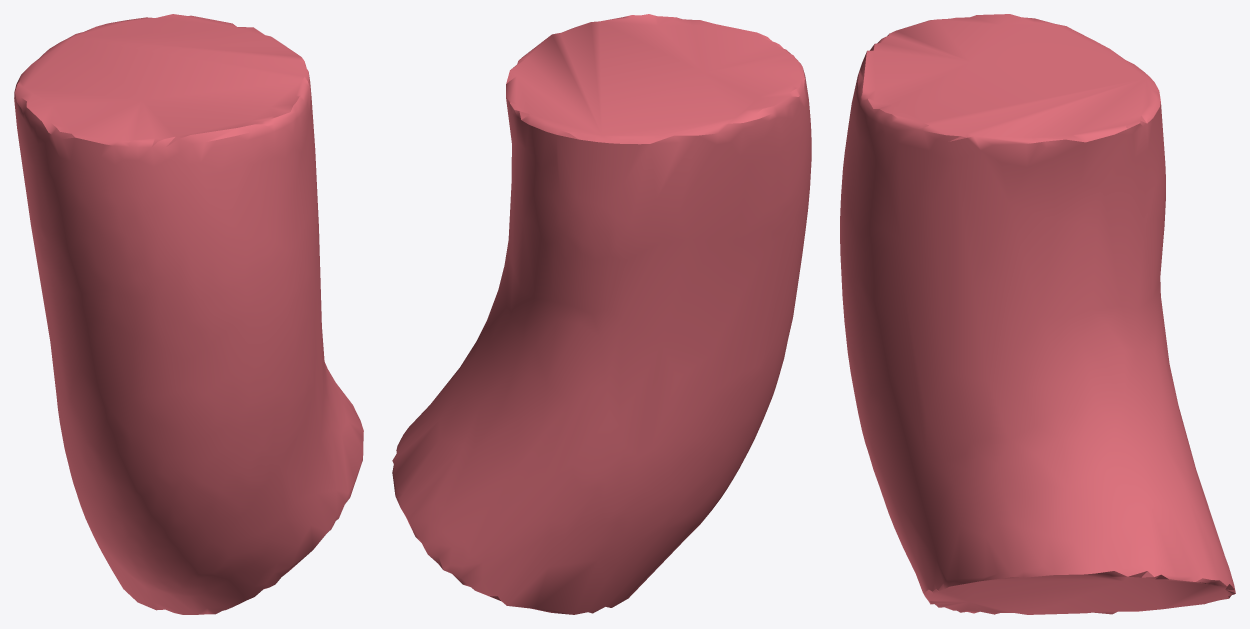
File: fma3736.glb
The picture shows the model from 3 angles, left to right: view 1: azimuth 30°, elevation 25°; view 2: azimuth 150°, elevation 25°; view 3: azimuth 270°, elevation 25°; orthographic projection. The views are drawn at different scales.
Parts seen in each view (by area): view 1: FMA3736; view 2: FMA3736; view 3: FMA3736.
Part boxes in pixels (x1,y1,x2,y2): FMA3736: (14,14,363,614); FMA3736: (392,14,811,614); FMA3736: (840,14,1235,614).
Size of the model in its own units: 0.0347 by 0.0511 by 0.0341.
